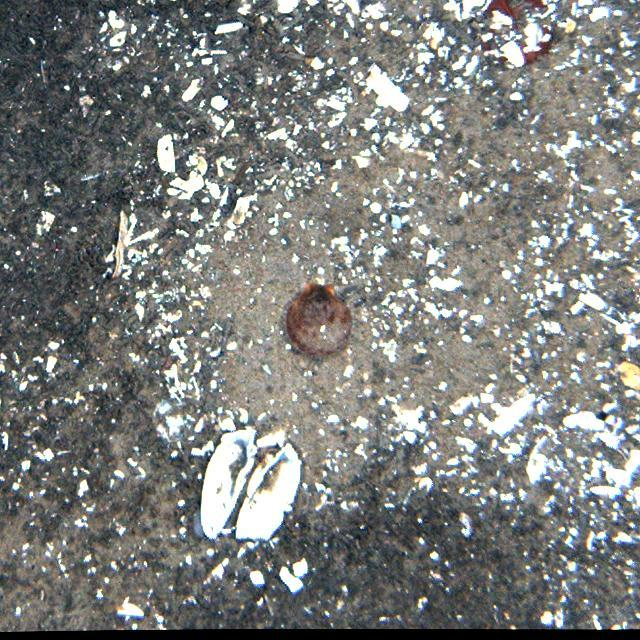scallop: (286, 282, 356, 354)
